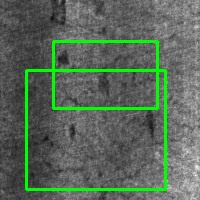crazing: (26, 70, 165, 189), (53, 41, 157, 108)
